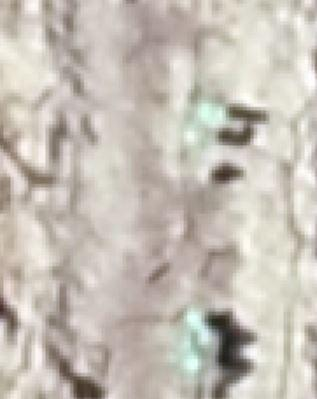cotton: (186, 312, 210, 366), (196, 102, 226, 124)
